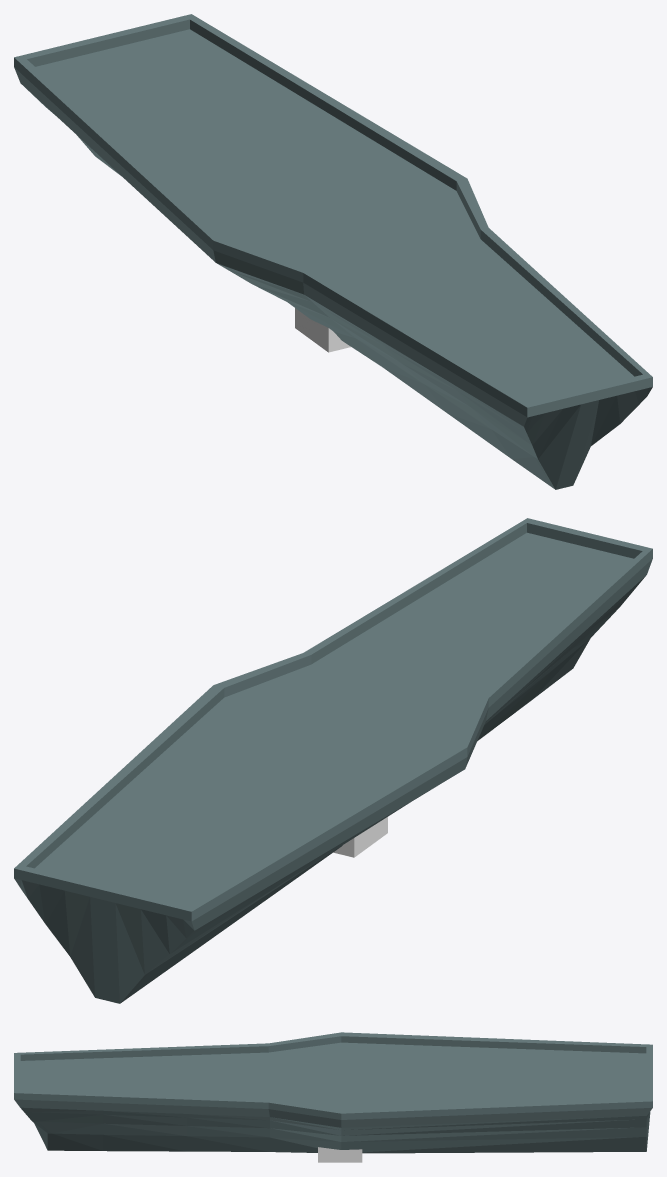
The model's file is carrier_seed.glb.
3 views of the same model, one above another, from view 1: azimuth 30°, elevation 25°; view 2: azimuth 150°, elevation 25°; view 3: azimuth 270°, elevation 25° (orthographic). The views are drawn at different scales.
Parts seen in each view (by area): view 1: beck, Cube; view 2: beck, Cube; view 3: beck, Cube.
Boxes of the visible parts, x1,y1,x2,y2 form: beck: (14, 14, 652, 489); Cube: (295, 308, 350, 352); beck: (14, 518, 652, 1003); Cube: (333, 817, 387, 857); beck: (14, 1032, 652, 1153); Cube: (318, 1147, 362, 1162).
Size of what is drawn, in the model's own units: 81.28 by 37.49 by 270.
